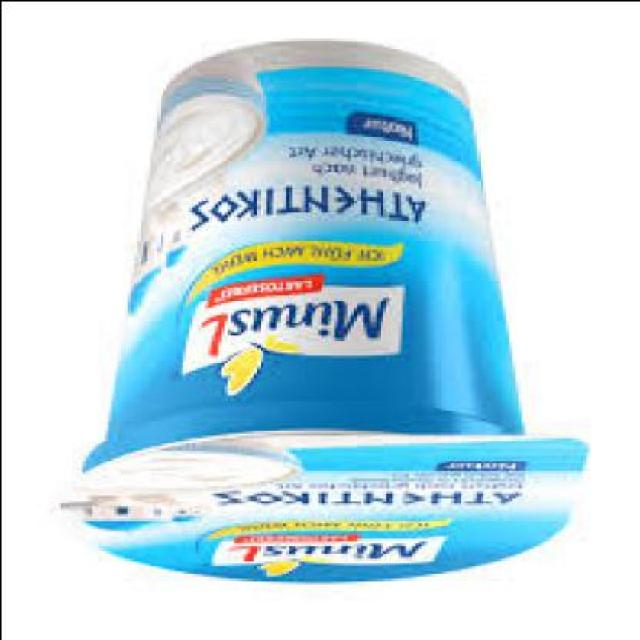PLASTIC: (58, 40, 591, 585)
